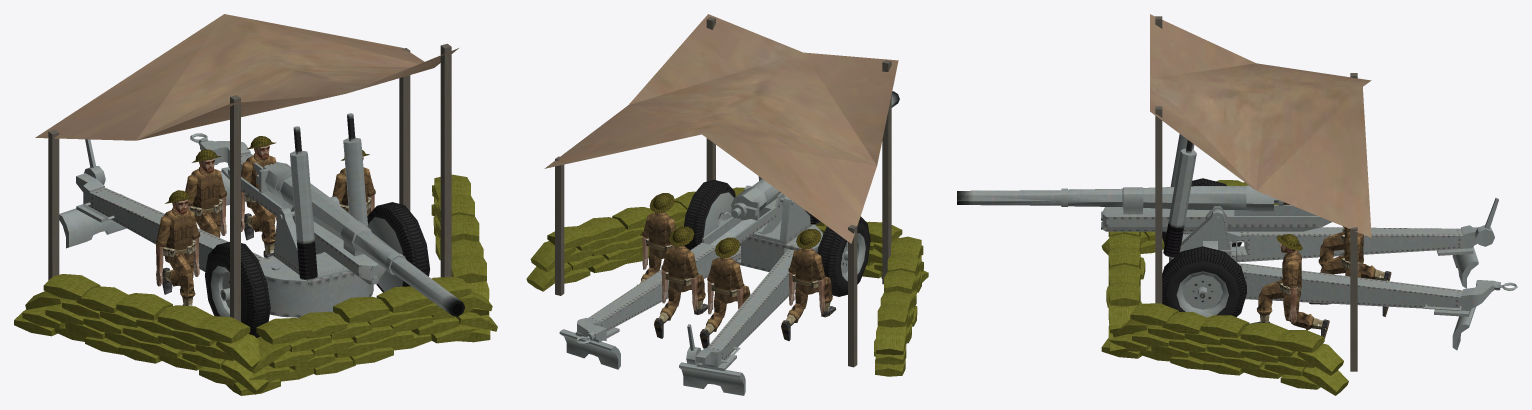
Rendered from GBR45inGun_stationary.dae.
3 renders of one model, left to right at view 1: azimuth 30°, elevation 25°; view 2: azimuth 150°, elevation 25°; view 3: azimuth 270°, elevation 25°, orthographic. The views are drawn at different scales.
Parts seen in each view (by area): view 1: base, wheels, turret, trail1, barrel, carriage, sleeve, torso2, torso3, trail2, rleg4; view 2: base, trail1, trail2, wheels, sleeve, carriage, turret, barrel, torso4, torso2, torso3, torso1 (+4 smaller); view 3: base, trail2, trail1, barrel, wheels, sleeve, turret, torso1.
Boxes of the visible parts, x1=… form: base: x1=14, y1=14, x2=497, y2=395; wheels: x1=205, y1=202, x2=429, y2=337; turret: x1=273, y1=113, x2=368, y2=281; trail1: x1=59, y1=139, x2=280, y2=271; barrel: x1=256, y1=162, x2=465, y2=316; carriage: x1=258, y1=256, x2=373, y2=317; sleeve: x1=228, y1=162, x2=386, y2=284; torso2: x1=163, y1=207, x2=195, y2=257; torso3: x1=190, y1=167, x2=222, y2=216; trail2: x1=190, y1=133, x2=252, y2=205; rleg4: x1=261, y1=218, x2=275, y2=253; base: x1=526, y1=14, x2=928, y2=376; trail1: x1=679, y1=249, x2=796, y2=395; trail2: x1=559, y1=242, x2=740, y2=369; wheels: x1=684, y1=180, x2=870, y2=296; sleeve: x1=702, y1=193, x2=794, y2=245; carriage: x1=717, y1=218, x2=822, y2=271; turret: x1=718, y1=176, x2=820, y2=244; barrel: x1=731, y1=91, x2=899, y2=220; torso4: x1=665, y1=246, x2=691, y2=286; torso2: x1=792, y1=248, x2=818, y2=288; torso3: x1=711, y1=257, x2=737, y2=297; torso1: x1=646, y1=213, x2=671, y2=252; base: x1=1101, y1=14, x2=1371, y2=395; trail2: x1=1238, y1=263, x2=1517, y2=350; trail1: x1=1232, y1=198, x2=1498, y2=288; barrel: x1=957, y1=185, x2=1283, y2=211; wheels: x1=1162, y1=178, x2=1246, y2=317; sleeve: x1=1101, y1=187, x2=1331, y2=241; turret: x1=1163, y1=134, x2=1243, y2=261; torso1: x1=1279, y1=250, x2=1301, y2=294.
Size of the model in its own units: 51.33 by 63.21 by 30.06.
